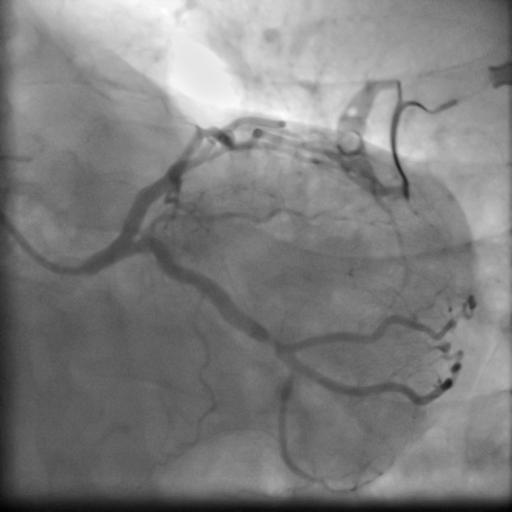Stenosis: (262, 328, 275, 353)
